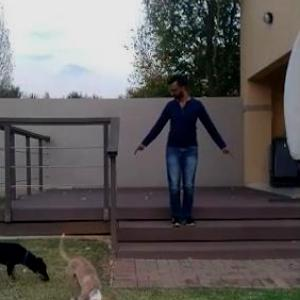land: (138, 76, 226, 238)
